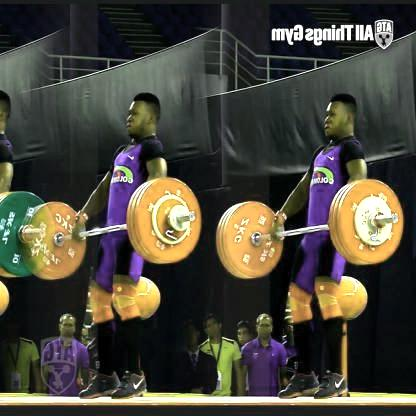Barbell: (361, 206, 400, 236), (163, 205, 198, 236)
